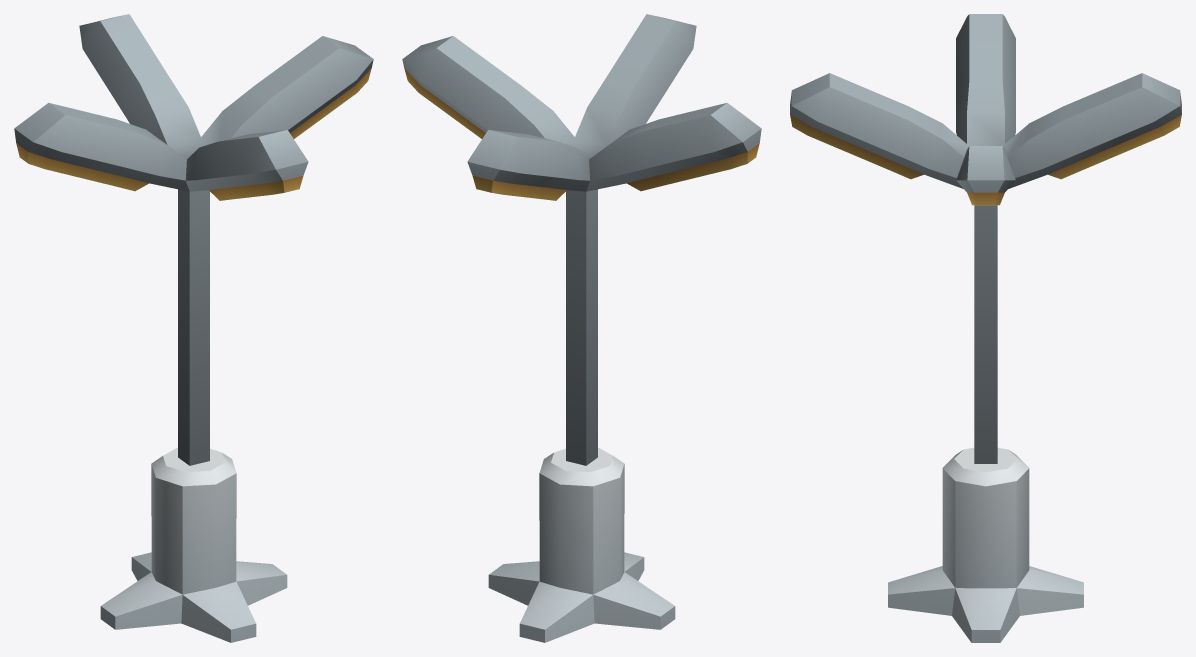
Rendered from lights.obj.
3 renders of one model, left to right at view 1: azimuth 30°, elevation 25°; view 2: azimuth 150°, elevation 25°; view 3: azimuth 270°, elevation 25°, orthographic.
Bounding box in the file's own units: 0.68 × 0.9984 × 0.68.
1 material, 1 textured.
